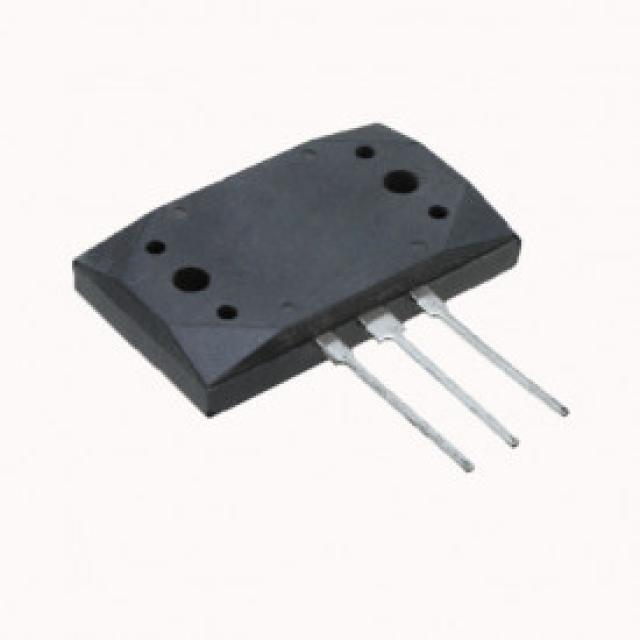Transistor: (70, 122, 569, 476)
